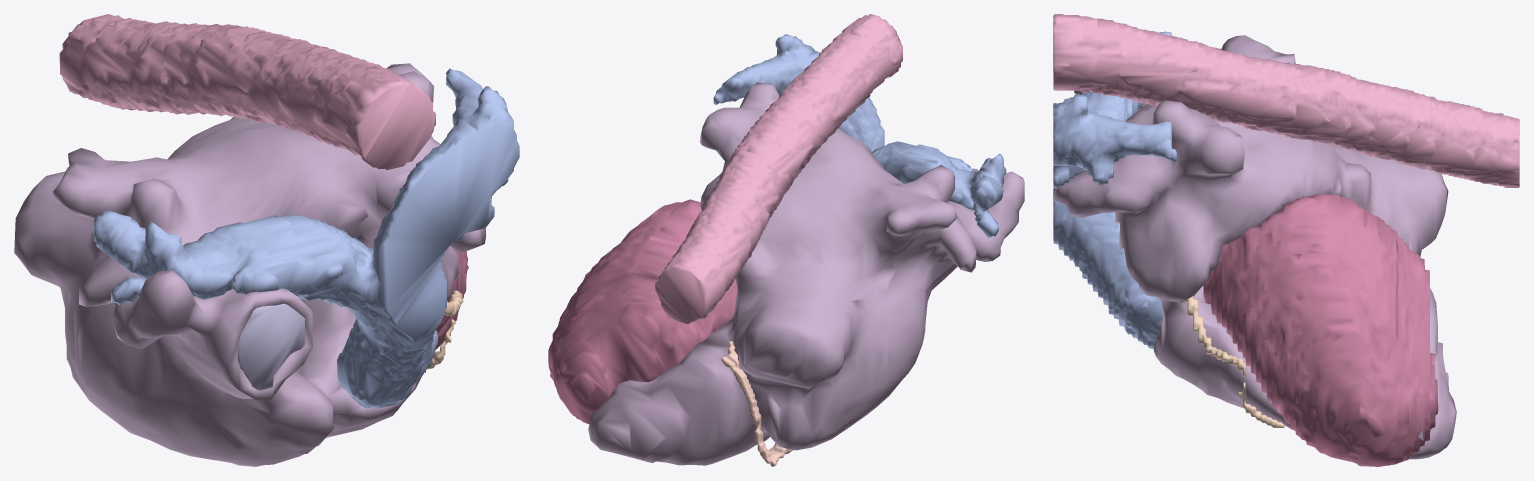
3 renders of one model, left to right at view 1: azimuth 30°, elevation 25°; view 2: azimuth 150°, elevation 25°; view 3: azimuth 270°, elevation 25°, orthographic. The views are drawn at different scales.
Parts seen in each view (by area): view 1: heart-wall, pulmonary-artery, aorta, right-atrium, myocardium, left-coronary-artery; view 2: heart-wall, aorta, myocardium, pulmonary-artery, right-coronary-artery; view 3: myocardium, heart-wall, aorta, pulmonary-artery, left-coronary-artery.
Boxes of the visible parts, left/top/right/bottom form: heart-wall: left=14, top=63, right=485, bottom=466; pulmonary-artery: left=93, top=68, right=519, bottom=408; aorta: left=59, top=14, right=435, bottom=170; right-atrium: left=238, top=303, right=305, bottom=390; myocardium: left=435, top=250, right=468, bottom=349; left-coronary-artery: left=426, top=290, right=463, bottom=369; heart-wall: left=588, top=82, right=1024, bottom=465; aorta: left=655, top=14, right=902, bottom=324; myocardium: left=548, top=199, right=736, bottom=424; pulmonary-artery: left=713, top=34, right=1006, bottom=237; right-coronary-artery: left=721, top=341, right=792, bottom=466; myocardium: left=1203, top=193, right=1438, bottom=466; heart-wall: left=1053, top=35, right=1456, bottom=459; aorta: left=1053, top=14, right=1519, bottom=187; pulmonary-artery: left=1053, top=31, right=1177, bottom=348; left-coronary-artery: left=1183, top=296, right=1284, bottom=427.
Bounding box in the file's own units: 138 × 130 × 142.
